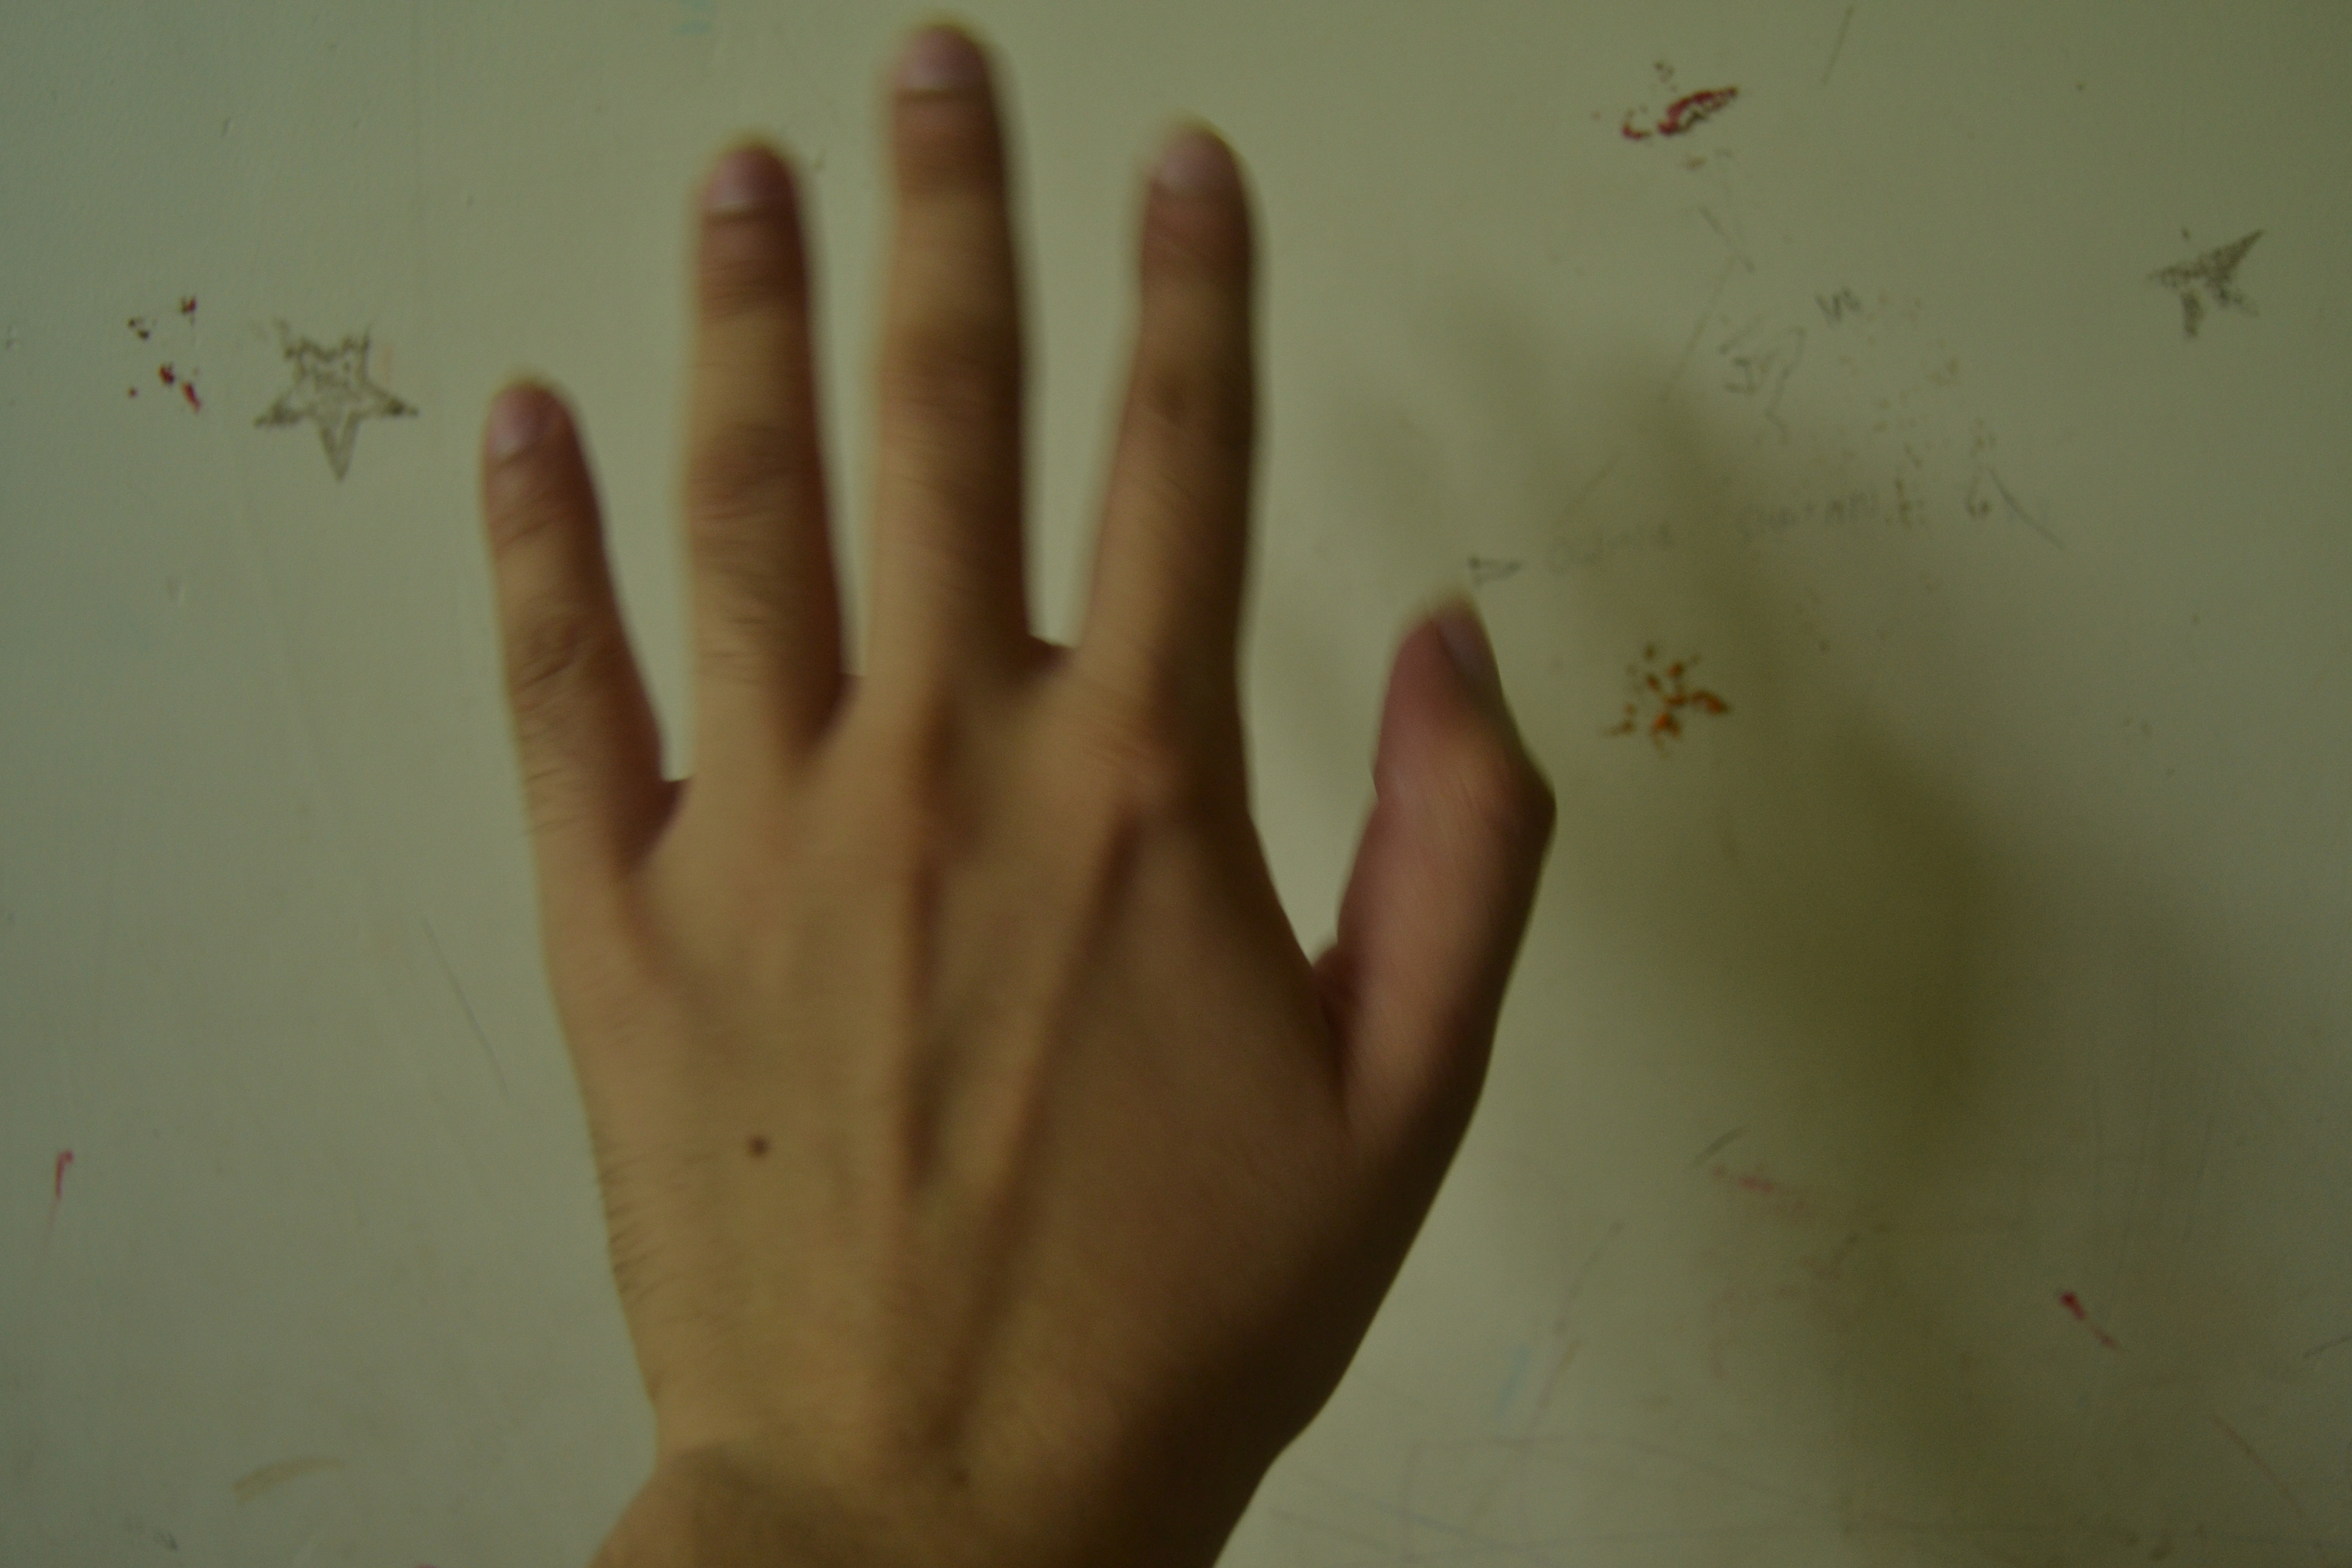move: (444, 3, 1673, 1556)
